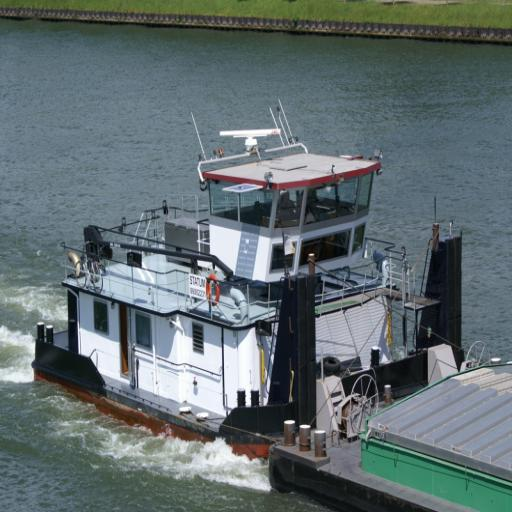tugboat: (31, 98, 468, 471)
